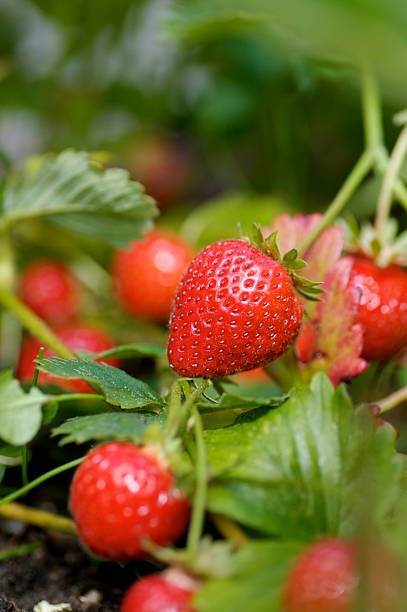Fresa: (163, 231, 315, 389), (64, 433, 194, 563)
